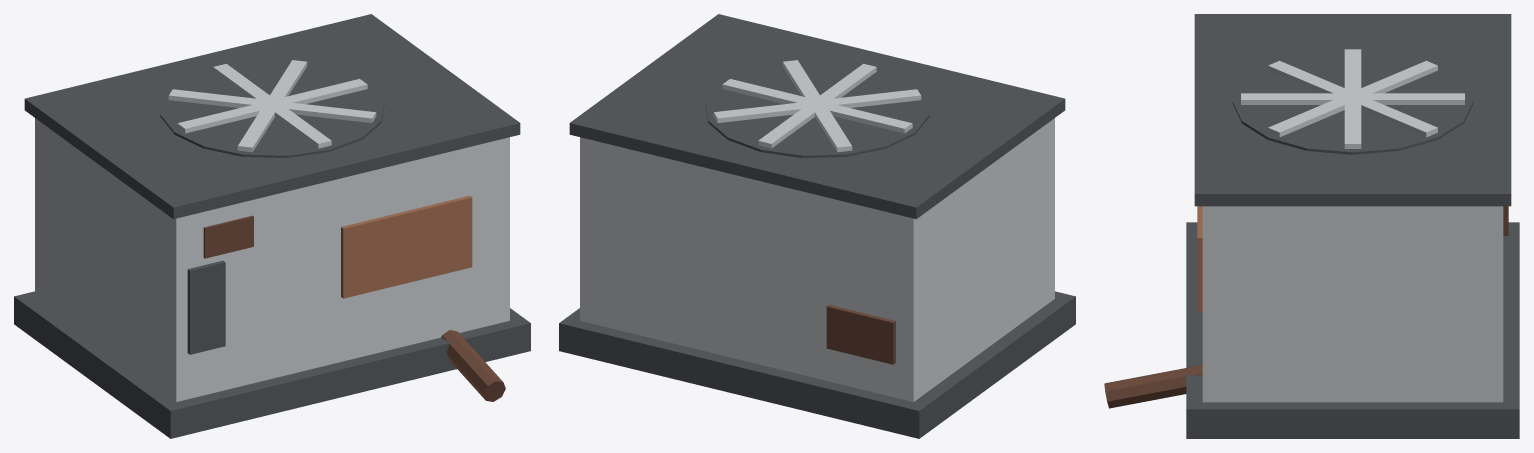
Rendered from ACUnit.fbx.
3 renders of one model, left to right at view 1: azimuth 30°, elevation 25°; view 2: azimuth 150°, elevation 25°; view 3: azimuth 270°, elevation 25°, orthographic. The views are drawn at different scales.
Visible parts, largest first — view 1: ACUnit; view 2: ACUnit; view 3: ACUnit.
Part boxes in pixels (<box>): ACUnit: <box>14,14,530,438</box>; ACUnit: <box>559,14,1075,438</box>; ACUnit: <box>1104,14,1519,438</box>.
Size of the model in its own units: 1.62 by 1.03 by 1.52.
